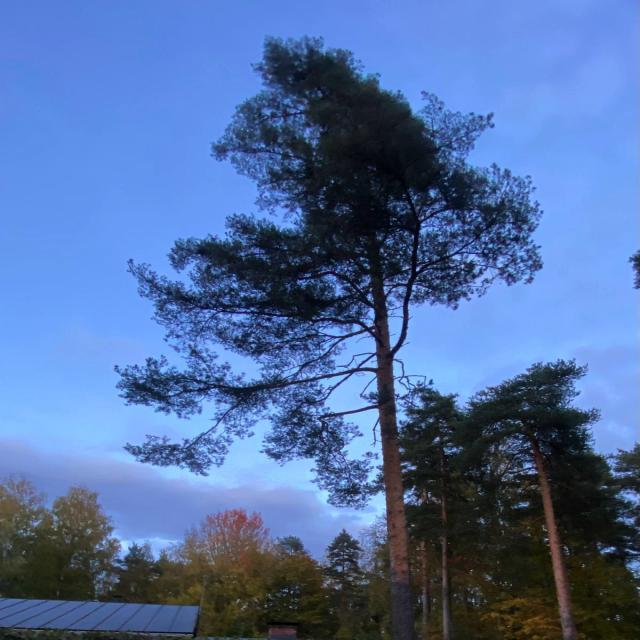pine: (105, 26, 557, 624), (455, 350, 612, 630)
